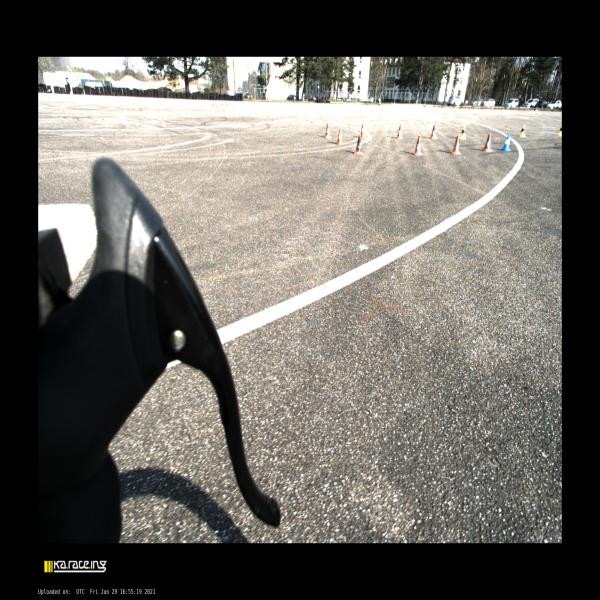blue_cone: (501, 134, 511, 152)
orange_cone: (413, 134, 423, 156), (482, 133, 492, 152), (355, 134, 364, 155), (451, 135, 460, 154), (335, 127, 344, 145), (324, 122, 331, 138), (429, 125, 437, 139), (396, 124, 403, 139), (360, 123, 365, 138)
yellow_cone: (459, 126, 466, 140), (519, 124, 526, 137), (556, 126, 562, 136), (560, 116, 562, 120)
